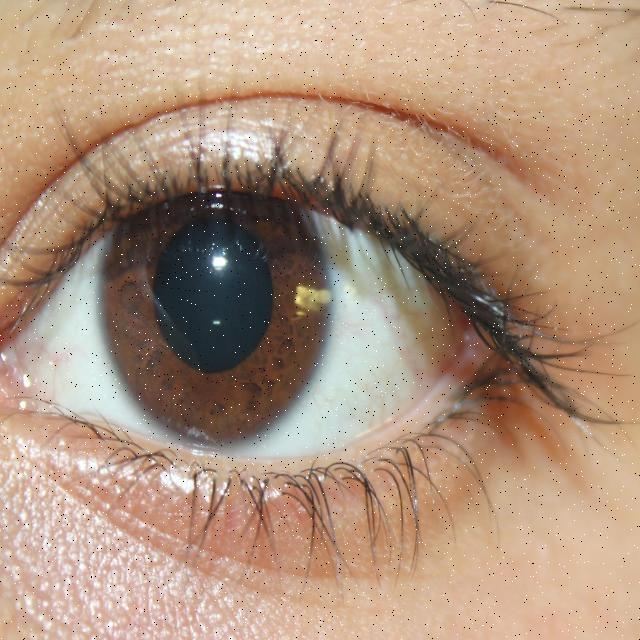Normal: (5, 51, 542, 588)
